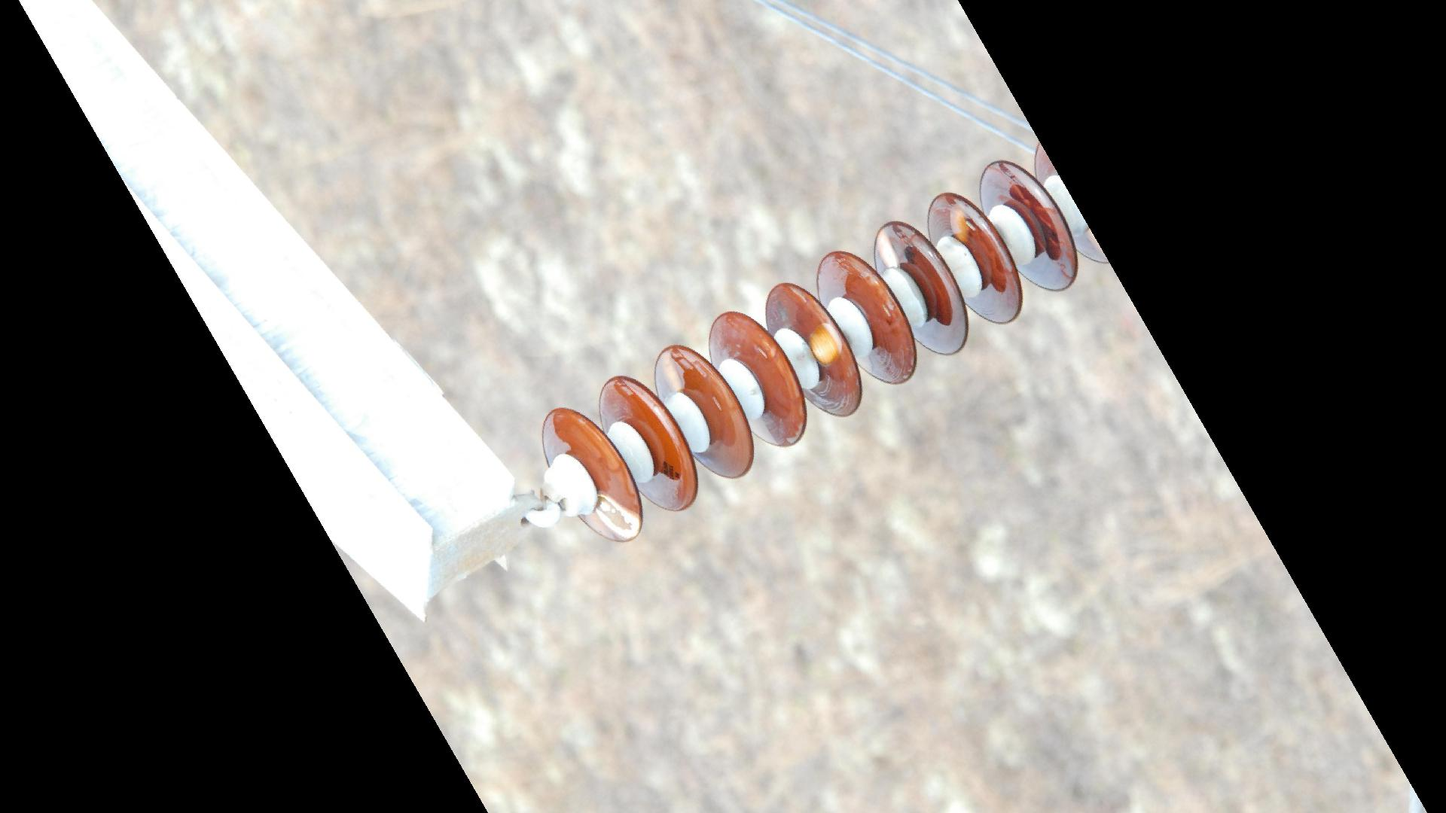insulator: (535, 139, 1111, 550)
insulator_flashover: (593, 490, 645, 544), (807, 320, 845, 367), (659, 348, 686, 393), (874, 227, 901, 270), (947, 202, 972, 243)
